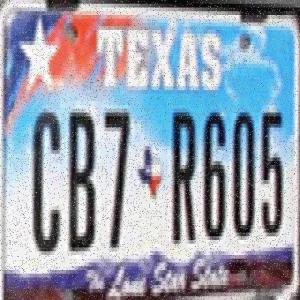Plate: (1, 2, 298, 298)
